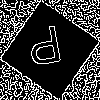P: (25, 25, 66, 76)
